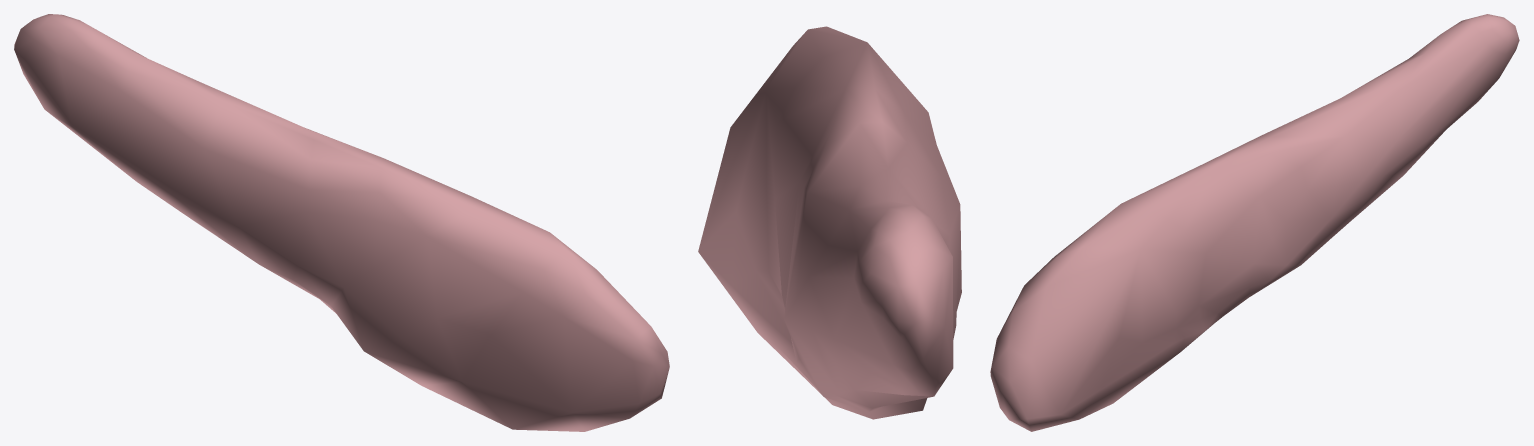
The picture shows the model from 3 angles, left to right: view 1: azimuth 30°, elevation 25°; view 2: azimuth 150°, elevation 25°; view 3: azimuth 270°, elevation 25°; orthographic projection. The views are drawn at different scales.
Visible parts, largest first — view 1: ZA_62ae946c878dff60; view 2: ZA_62ae946c878dff60; view 3: ZA_62ae946c878dff60.
Part boxes in pixels (bbox=[...]): ZA_62ae946c878dff60: bbox=[14, 14, 669, 431]; ZA_62ae946c878dff60: bbox=[698, 26, 961, 419]; ZA_62ae946c878dff60: bbox=[990, 14, 1519, 431].
Bounding box in the file's own units: 0.0163 × 0.0126 × 0.0212.
